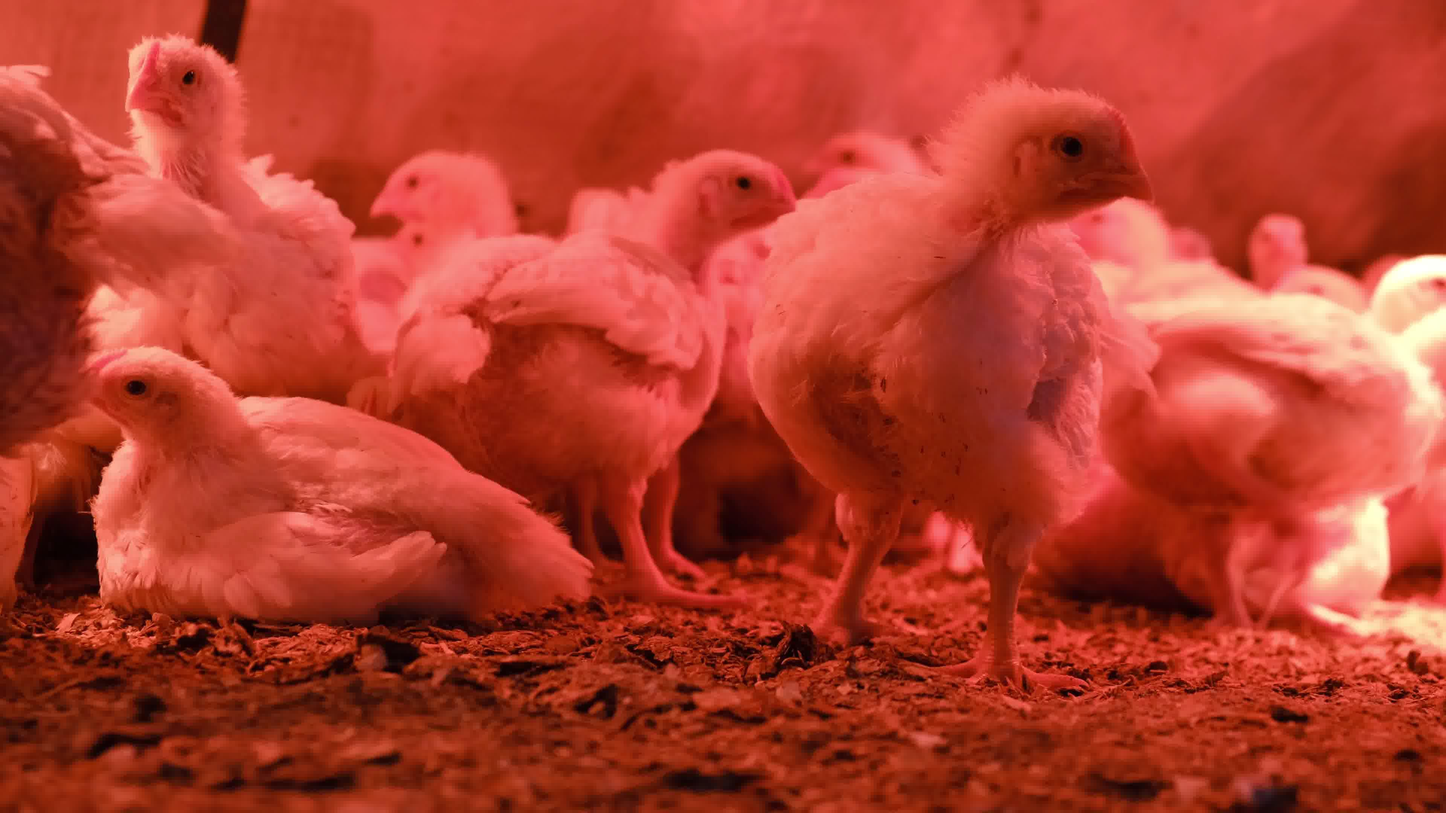AbNormal: (83, 329, 604, 630), (1107, 435, 1446, 636)
Normal: (749, 79, 1135, 711), (354, 141, 785, 610), (1083, 247, 1446, 617), (98, 11, 380, 384), (316, 90, 542, 273), (1239, 198, 1373, 318)
